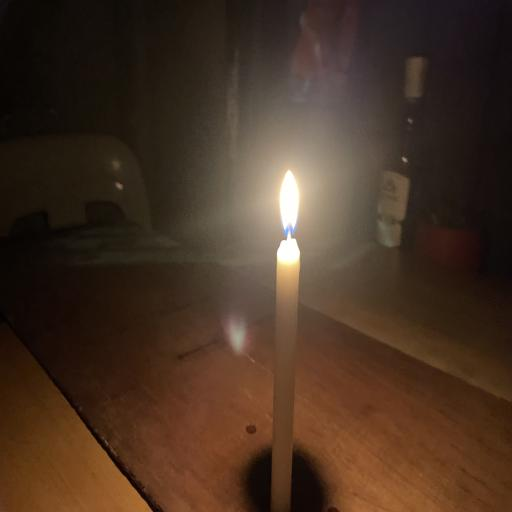fire: (232, 162, 348, 269)
